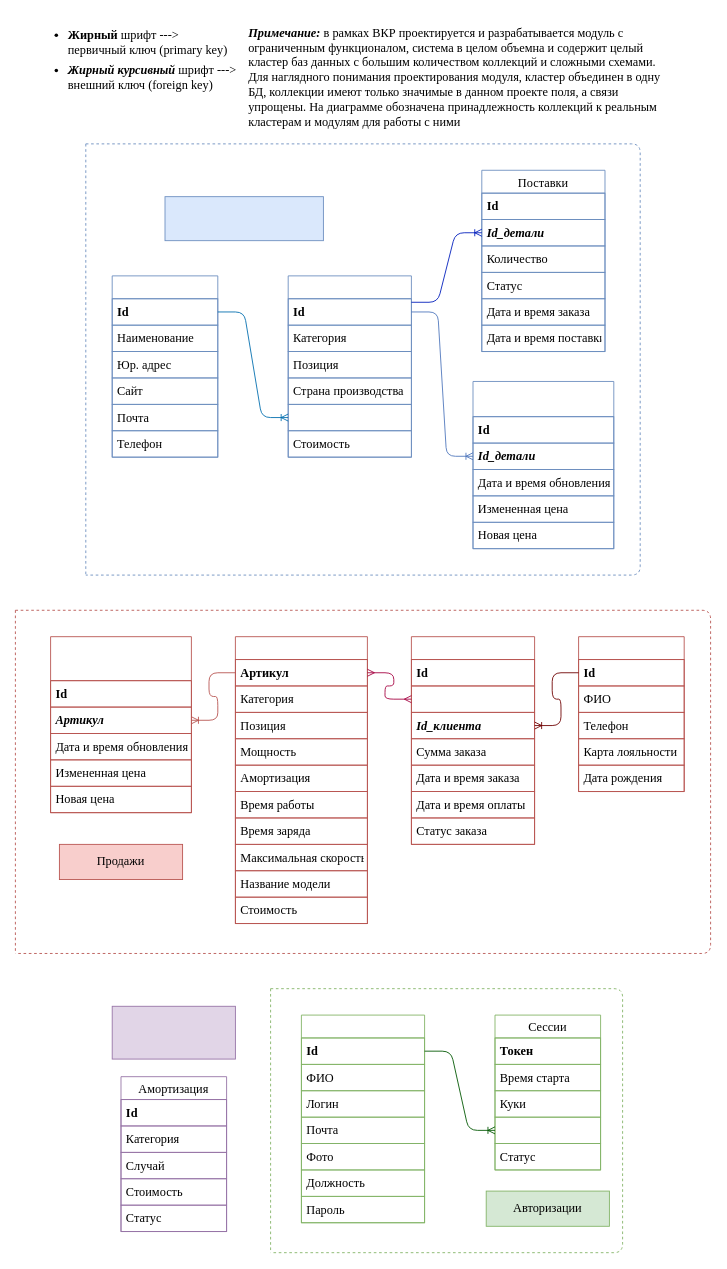
Image size: 727x1269. Some labels were removed from this diagram. Each missing label, with the box of its shape:
Id_поставщика: (287, 403, 411, 431)
Артикул товара: (411, 685, 535, 712)
Детали: (287, 275, 411, 457)
Динамика стоимости детали: (472, 381, 614, 549)
Динамика стоимости товара: (50, 636, 191, 813)
Заказы: (411, 636, 535, 844)
Клиенты: (578, 636, 684, 792)
Обеспечение бесперебойного производства: (111, 1005, 235, 1059)
Пользователи: (301, 1014, 425, 1223)
Пользователь: (494, 1116, 601, 1144)
Поставщики: (111, 275, 218, 457)
Снабжение комплектующими деталями: (164, 196, 323, 241)
Товары: (235, 636, 367, 924)
